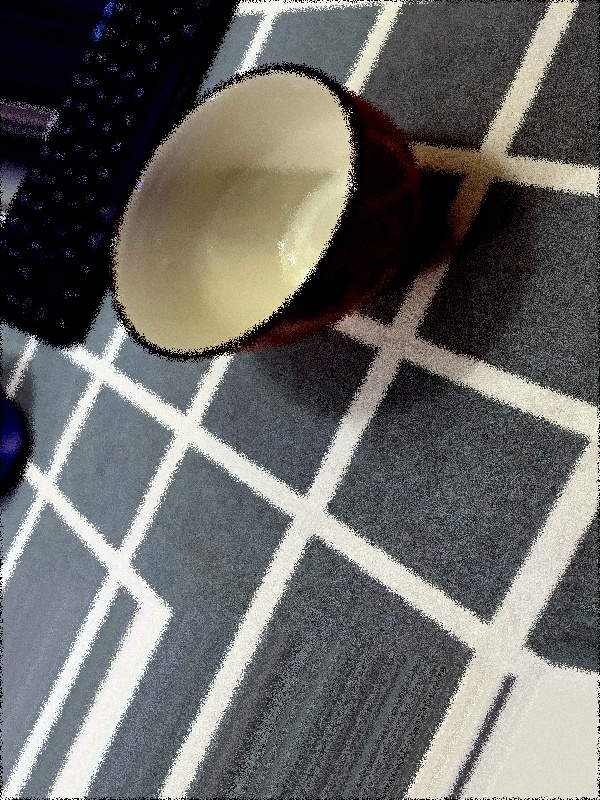bowl_small: (47, 39, 509, 406)
